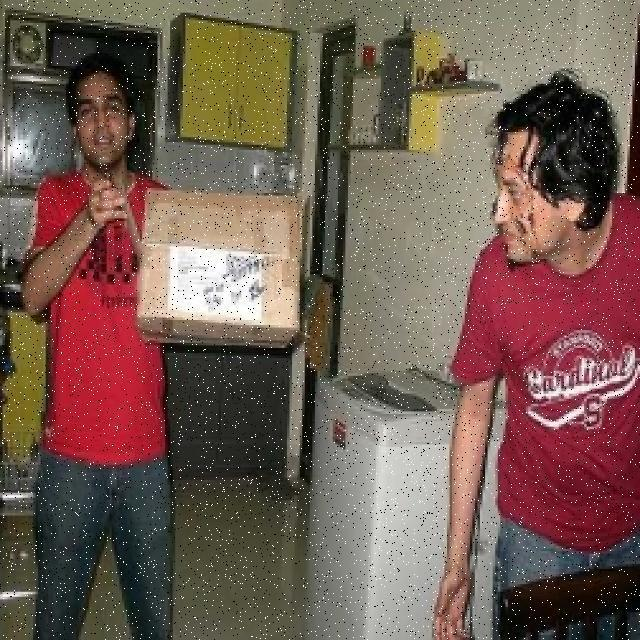box: (143, 192, 304, 341)
